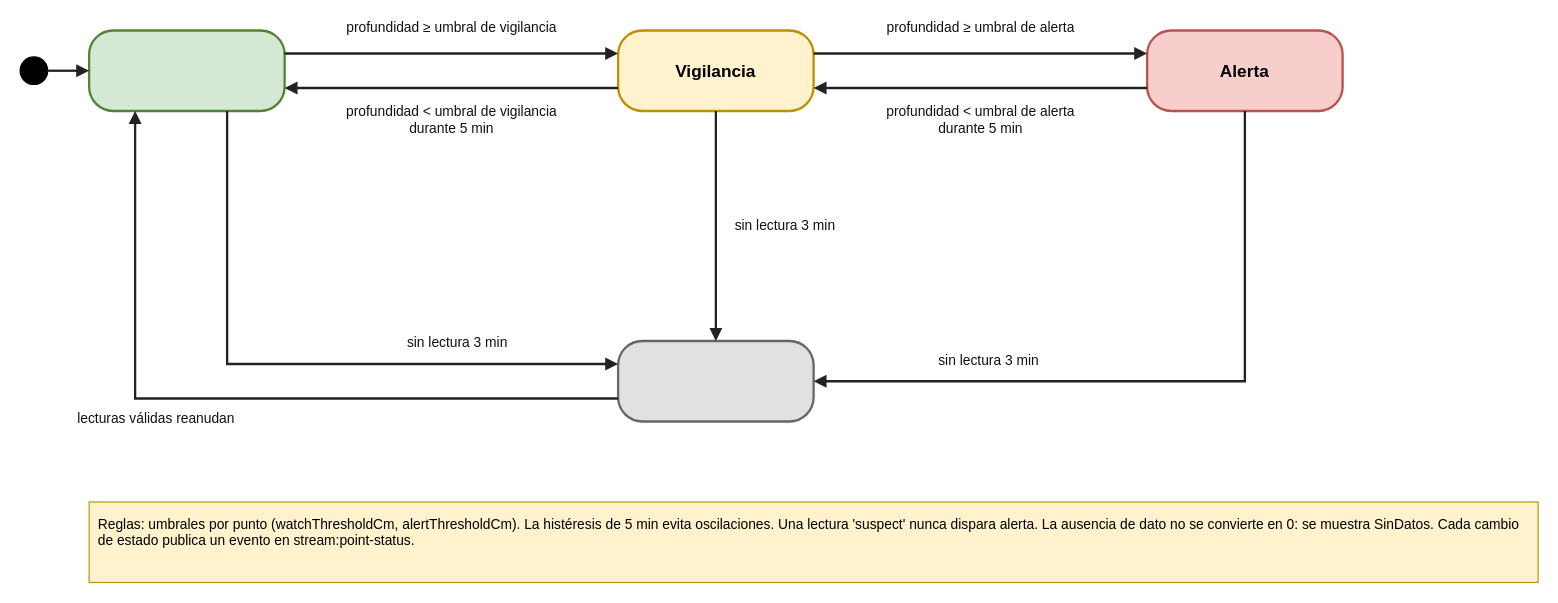
Image size: 1558x603. Some labels were removed from this diagram. Each missing label, with the box of its shape:
Normal: (87, 29, 285, 112)
SinDatos: (616, 339, 814, 422)
